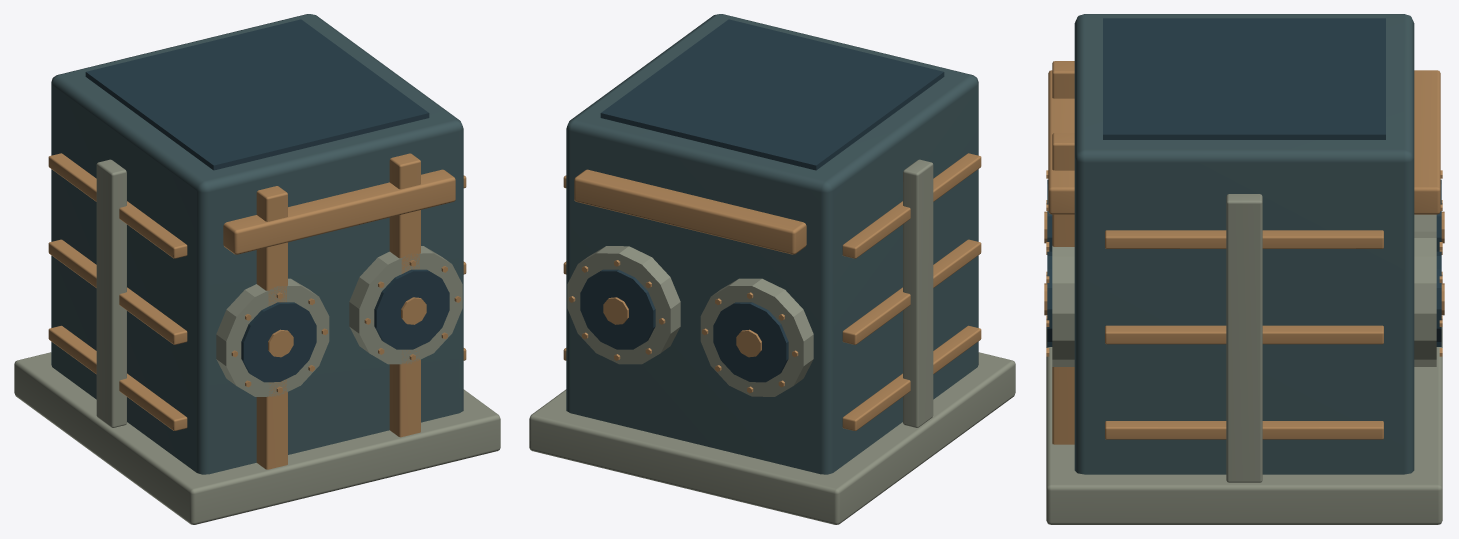
Rendered from pump-base-0.glb.
3 views of the same model, side by side, from view 1: azimuth 30°, elevation 25°; view 2: azimuth 150°, elevation 25°; view 3: azimuth 270°, elevation 25° (orthographic). The views are drawn at different scales.
Visible parts, largest first — view 1: pump_0, pump_1, pump_2, pump_3; view 2: pump_0, pump_1, pump_2, pump_3; view 3: pump_0, pump_1, pump_2, pump_3.
Boxes of the visible parts, x1,y1,x2,y2 form: pump_0: [51, 14, 463, 474]; pump_1: [14, 159, 500, 524]; pump_2: [85, 19, 449, 382]; pump_3: [48, 153, 466, 469]; pump_0: [566, 14, 978, 474]; pump_1: [529, 159, 1015, 524]; pump_2: [580, 19, 944, 382]; pump_3: [563, 153, 981, 430]; pump_0: [1074, 14, 1414, 474]; pump_1: [1046, 194, 1442, 524]; pump_2: [1047, 18, 1441, 346]; pump_3: [1044, 61, 1444, 444].
Size of the model in its own units: 0.98 by 1 by 0.99.
